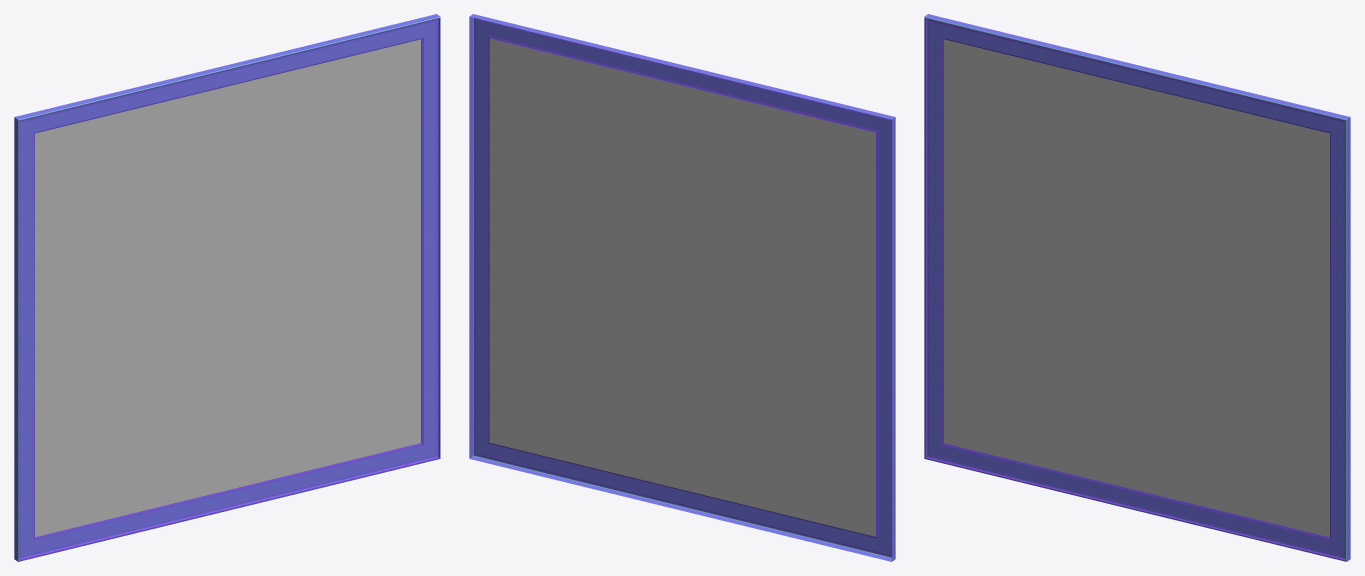
3 renders of one model, left to right at view 1: azimuth 30°, elevation 25°; view 2: azimuth 150°, elevation 25°; view 3: azimuth 330°, elevation 25°, orthographic.
Visible parts, largest first — view 1: _09_01, _09_01_frame; view 2: _09_01, _09_01_frame; view 3: _09_01, _09_01_frame.
Boxes of the visible parts, left/top/right/bottom form: _09_01: left=35, top=39, right=420, bottom=537; _09_01_frame: left=14, top=14, right=440, bottom=561; _09_01: left=489, top=38, right=875, bottom=536; _09_01_frame: left=469, top=14, right=895, bottom=561; _09_01: left=944, top=39, right=1329, bottom=537; _09_01_frame: left=924, top=14, right=1350, bottom=561.
Size of the model in its own units: 443 by 443 by 7.21.
